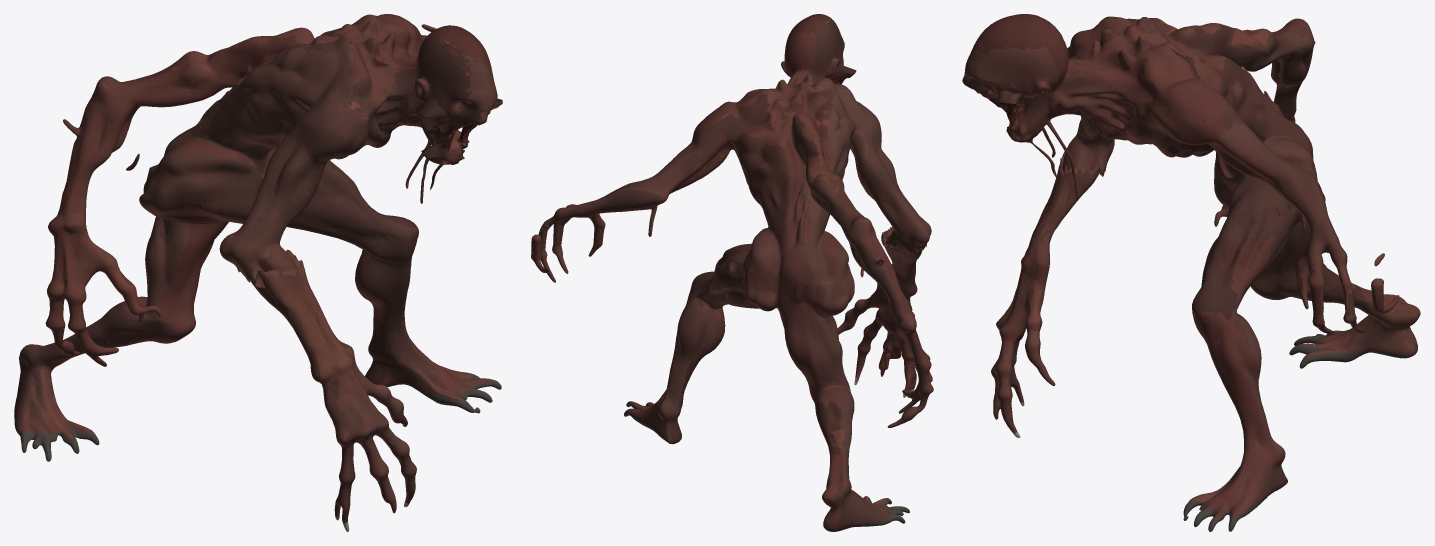
Rendered from imitator_generated_v5.glb.
3 renders of one model, left to right at view 1: azimuth 30°, elevation 25°; view 2: azimuth 150°, elevation 25°; view 3: azimuth 270°, elevation 25°, orthographic. The views are drawn at different scales.
Parts seen in each view (by area): view 1: Imitator_Generated; view 2: Imitator_Generated; view 3: Imitator_Generated.
Part boxes in pixels (bbox=[...]): Imitator_Generated: bbox=[14, 14, 502, 531]; Imitator_Generated: bbox=[531, 14, 933, 531]; Imitator_Generated: bbox=[962, 14, 1420, 531].
Size of the model in its own units: 2.23 by 2.14 by 1.96.
4 materials, 1 textured.
